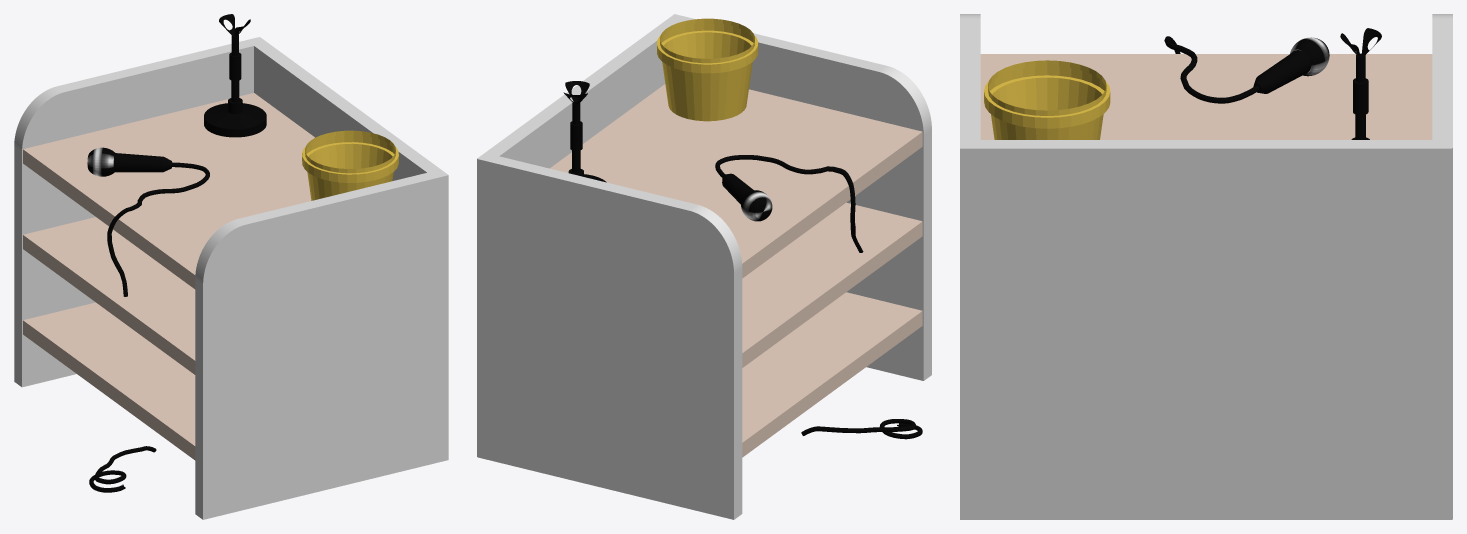
The model's file is mic_line_split.fbx.
3 views of the same model, side by side, from view 1: azimuth 30°, elevation 25°; view 2: azimuth 150°, elevation 25°; view 3: azimuth 270°, elevation 25° (orthographic). The views are drawn at different scales.
Parts seen in each view (by area): view 1: right, up, left, under, middle, front, basket, mic_doc_under, line_split, mic_bar, mic_head; view 2: left, up, right, under, middle, front, basket, line_split, mic_doc_under, mic_head, mic_bar; view 3: front, up, basket, left, right, mic_bar, mic_doc_under, line_split, mic_head.
Part boxes in pixels (<box>): right: <box>195,172,447,519</box>; up: <box>23,93,314,289</box>; left: <box>14,37,266,387</box>; under: <box>23,302,195,460</box>; middle: <box>23,217,195,374</box>; front: <box>254,37,448,459</box>; basket: <box>302,130,398,200</box>; mic_doc_under: <box>204,34,266,137</box>; line_split: <box>89,163,209,492</box>; mic_bar: <box>113,153,179,172</box>; mic_head: <box>87,147,114,176</box>; left: <box>477,153,742,519</box>; up: <box>550,84,922,278</box>; right: <box>684,17,931,380</box>; under: <box>742,292,922,457</box>; middle: <box>742,202,922,367</box>; front: <box>477,14,688,456</box>; basket: <box>657,18,758,121</box>; line_split: <box>715,155,922,439</box>; mic_doc_under: <box>568,103,606,182</box>; mic_head: <box>741,190,772,221</box>; mic_bar: <box>720,172,753,204</box>; front: <box>960,140,1451,519</box>; up: <box>980,54,1432,139</box>; basket: <box>984,60,1110,139</box>; left: <box>1432,14,1452,519</box>; right: <box>960,14,980,139</box>; mic_bar: <box>1250,50,1311,93</box>; mic_doc_under: <box>1351,53,1369,139</box>; line_split: <box>1164,36,1253,103</box>; mic_head: <box>1290,37,1329,76</box>.
Bounding box in the file's own units: 217 × 243 × 240.
6 materials, 1 textured.
